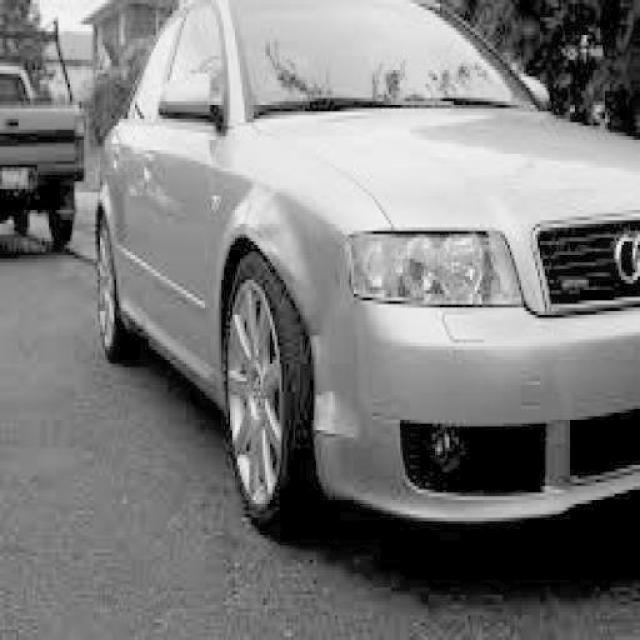car damage: (256, 178, 364, 444)
